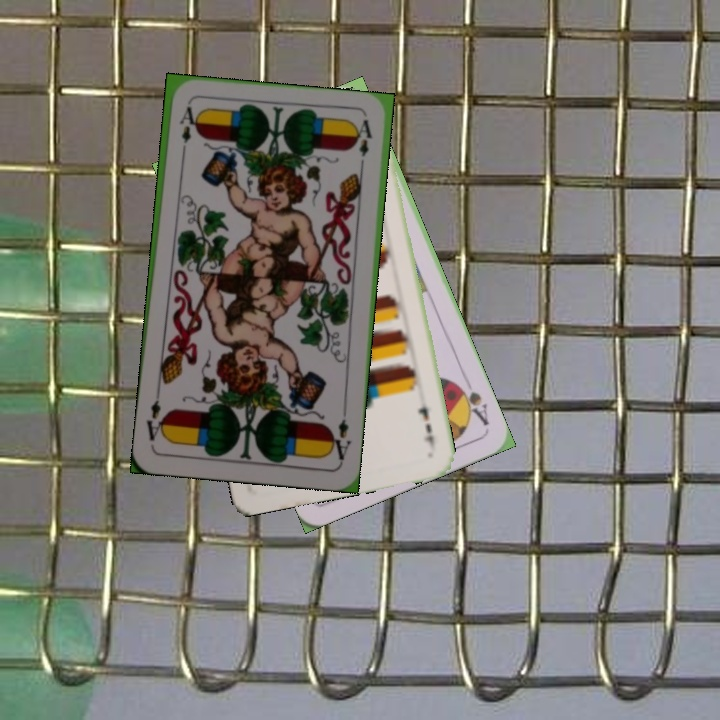E7: (414, 402, 437, 452)
EA: (326, 415, 354, 465), (175, 102, 197, 159)
SA: (452, 378, 492, 429)
